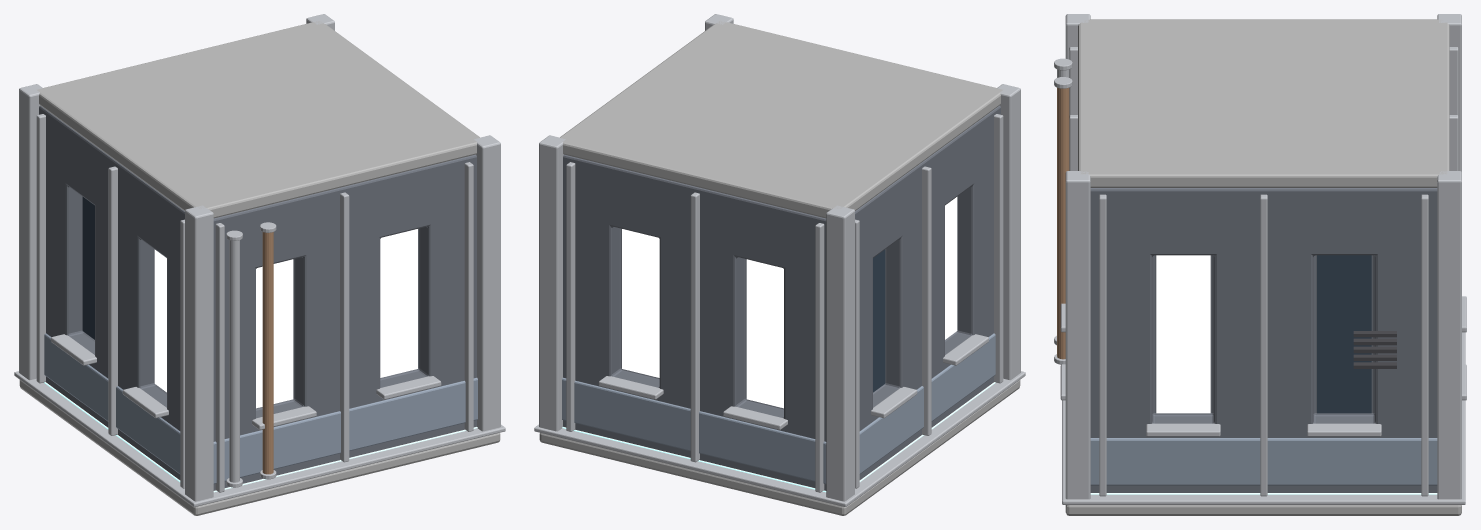
File: office_3x3.glb
3 renders of one model, left to right at view 1: azimuth 30°, elevation 25°; view 2: azimuth 150°, elevation 25°; view 3: azimuth 270°, elevation 25°, orthographic. The views are drawn at different scales.
Parts seen in each view (by area): view 1: ext_wall, int_ceiling, int_columns, ext_frames, ext_spandrel, ext_panes_lit, int_slab_edge, int_slab, ext_pipe1, ext_pipe0, ext_panes_dark, int_grid; view 2: ext_wall, int_ceiling, int_columns, ext_frames, ext_spandrel, ext_panes_lit, int_slab_edge, int_slab, ext_panes_dark, int_grid; view 3: ext_wall, int_ceiling, int_columns, ext_spandrel, ext_frames, ext_panes_lit, ext_panes_dark, int_slab_edge, int_slab, ext_pipe1, ext_vent, int_grid.
Part boxes in pixels (x1,y1,x2,y2): ext_wall: [39, 105, 476, 490]; int_ceiling: [37, 21, 479, 218]; int_columns: [19, 14, 500, 501]; ext_frames: [36, 114, 473, 492]; ext_spandrel: [44, 333, 477, 484]; ext_panes_lit: [154, 229, 417, 408]; int_slab_edge: [14, 371, 505, 506]; int_slab: [19, 380, 500, 515]; ext_pipe1: [262, 232, 273, 474]; ext_pipe0: [229, 240, 239, 482]; ext_panes_dark: [82, 197, 94, 339]; int_grid: [44, 382, 477, 492]; ext_wall: [563, 105, 1000, 490]; int_ceiling: [560, 21, 1002, 218]; int_columns: [539, 14, 1020, 501]; ext_frames: [566, 114, 1003, 492]; ext_spandrel: [562, 333, 995, 484]; ext_panes_lit: [622, 197, 957, 408]; int_slab_edge: [534, 371, 1025, 506]; int_slab: [539, 380, 1020, 515]; ext_panes_dark: [873, 249, 885, 392]; int_grid: [562, 382, 995, 492]; ext_wall: [1090, 188, 1437, 492]; int_ceiling: [1078, 19, 1449, 187]; int_columns: [1065, 14, 1461, 499]; ext_spandrel: [1090, 438, 1437, 485]; ext_frames: [1060, 47, 1466, 496]; ext_panes_lit: [1156, 255, 1210, 413]; ext_panes_dark: [1317, 255, 1371, 413]; int_slab_edge: [1062, 332, 1465, 504]; int_slab: [1065, 505, 1461, 515]; ext_pipe1: [1057, 87, 1069, 359]; ext_vent: [1353, 331, 1396, 368]; int_grid: [1090, 493, 1437, 494].
Bounding box in the file's own units: 3.28 × 3 × 3.33.
